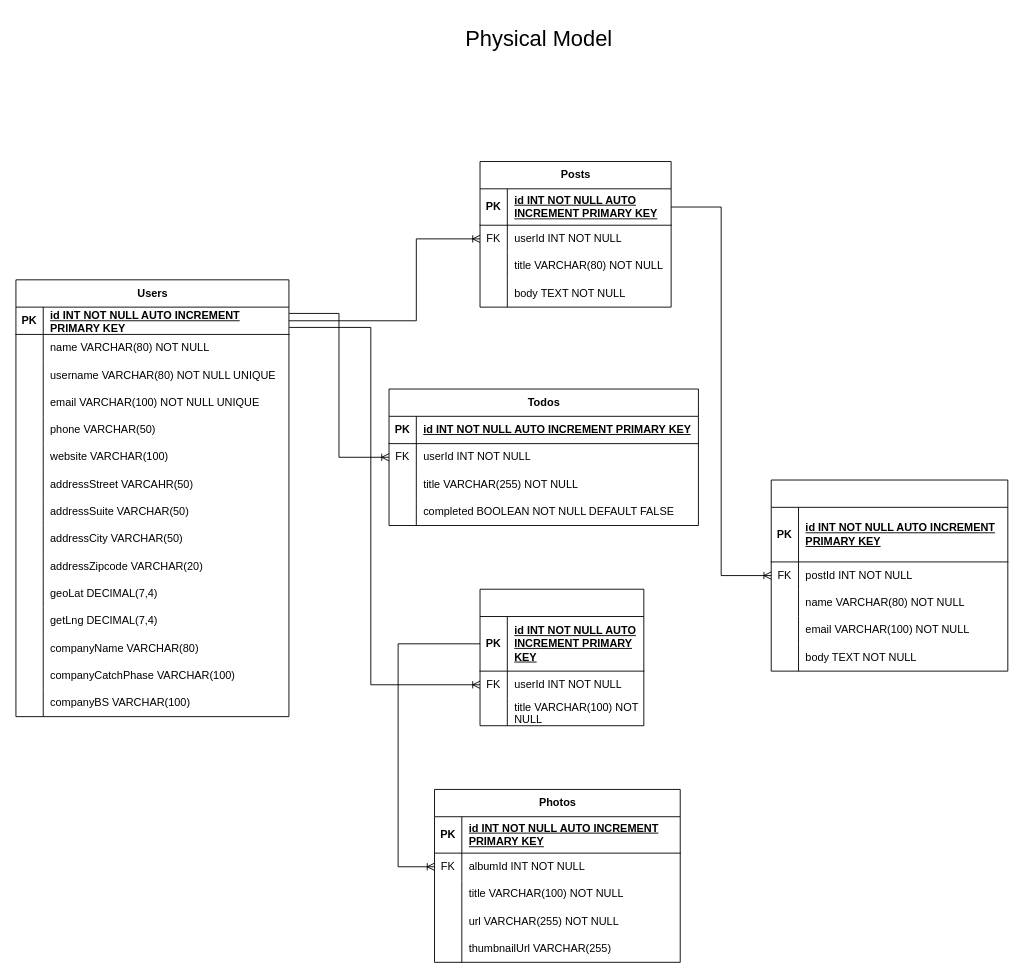
This 1024x978 diagram has some shape labels left out. The box of each missing label's shape, as (x1, y1, x2, y2) in pixels:
Albums: (479, 588, 644, 726)
Comments: (770, 479, 1008, 671)
